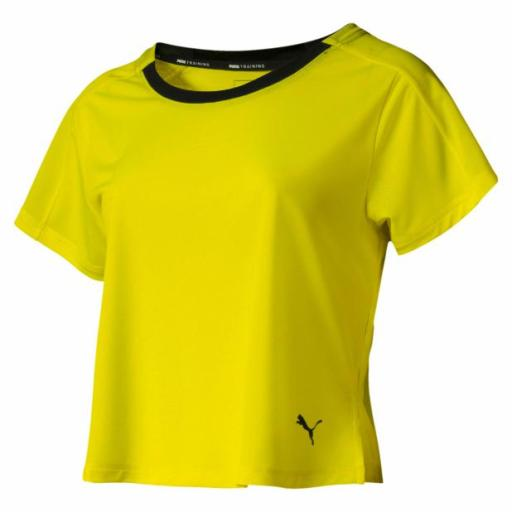Puma: (294, 408, 324, 448)
